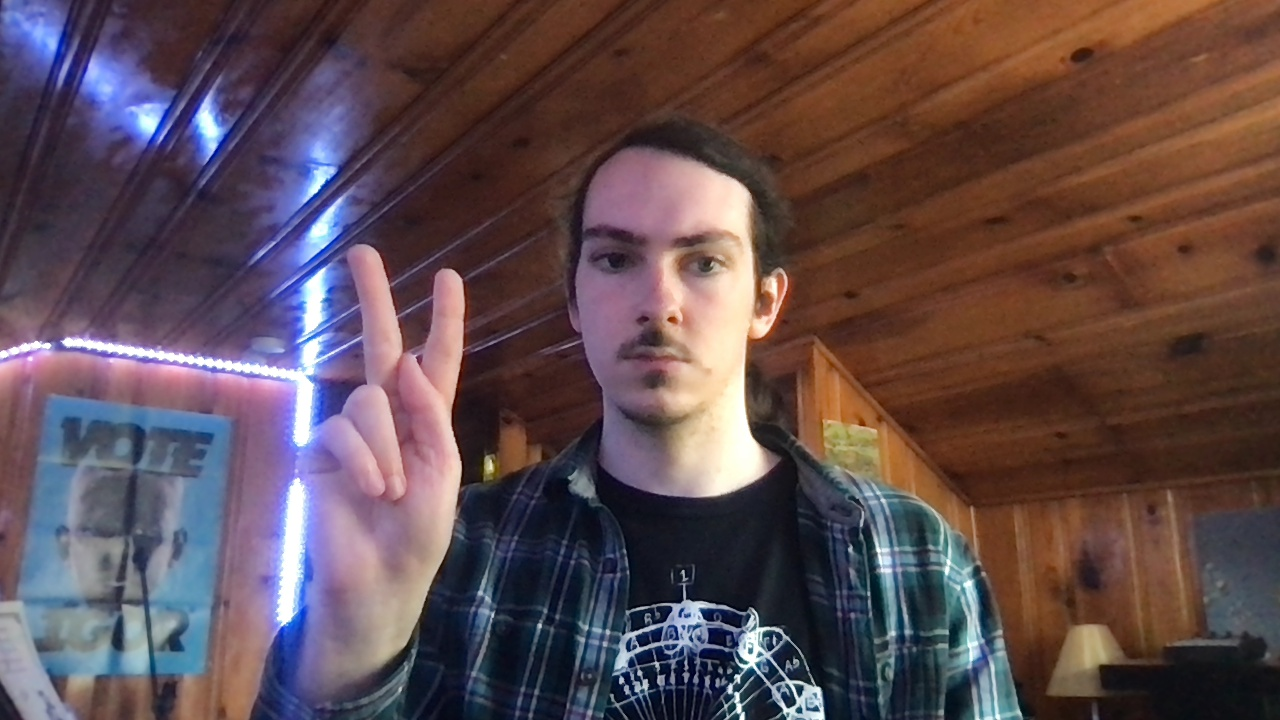k: (302, 244, 468, 596)
